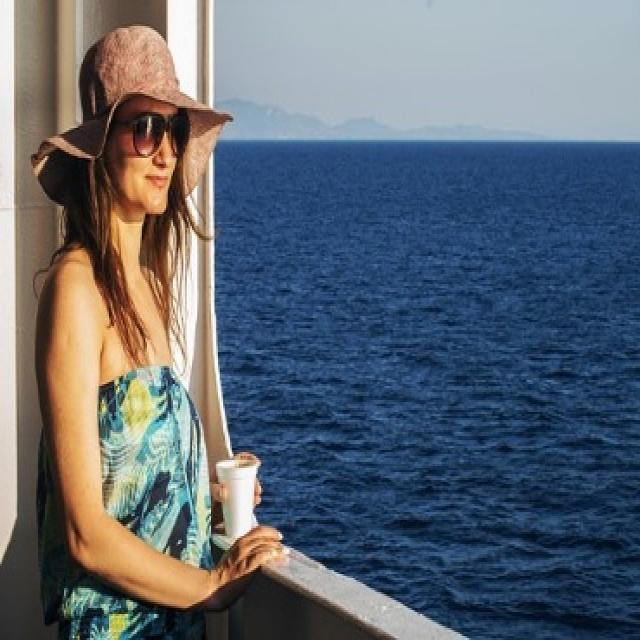adult: (31, 14, 242, 640)
